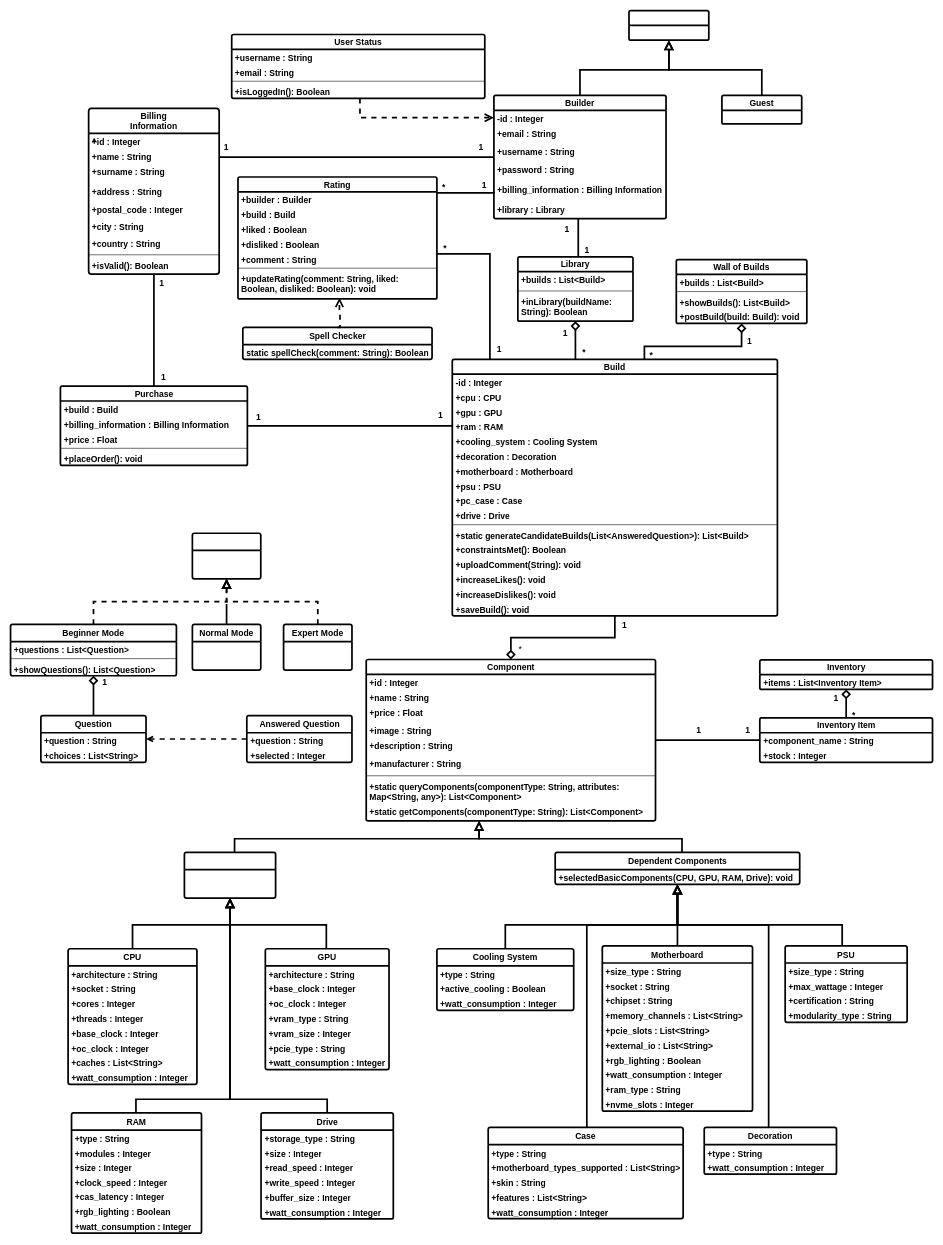
Image size: 943x1245. Some labels were removed from this diagram. The shapes that lost their labels are listed below. From the top down, each one's centre as x and y in pixels, then its label:
[668,25]: User
[226,555]: Building Mode
[229,875]: Basic Component
